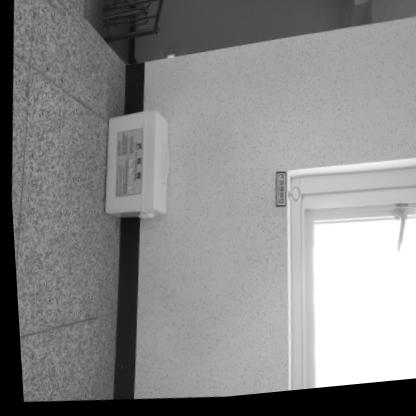DDL: (98, 107, 170, 219)
